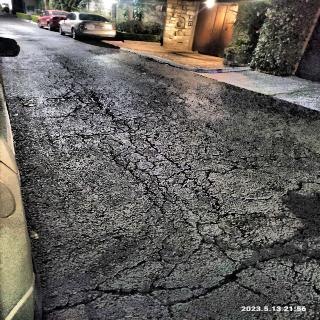alligator-crack: (34, 77, 299, 320)
